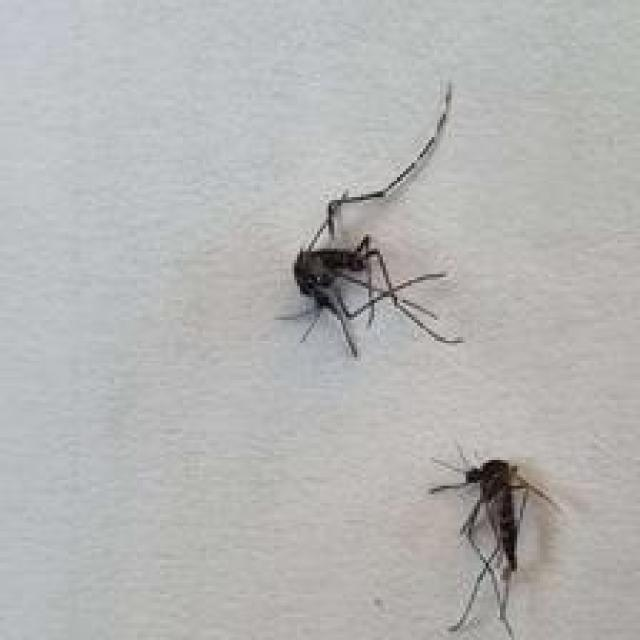Aedes albopictus: (276, 77, 464, 360)
